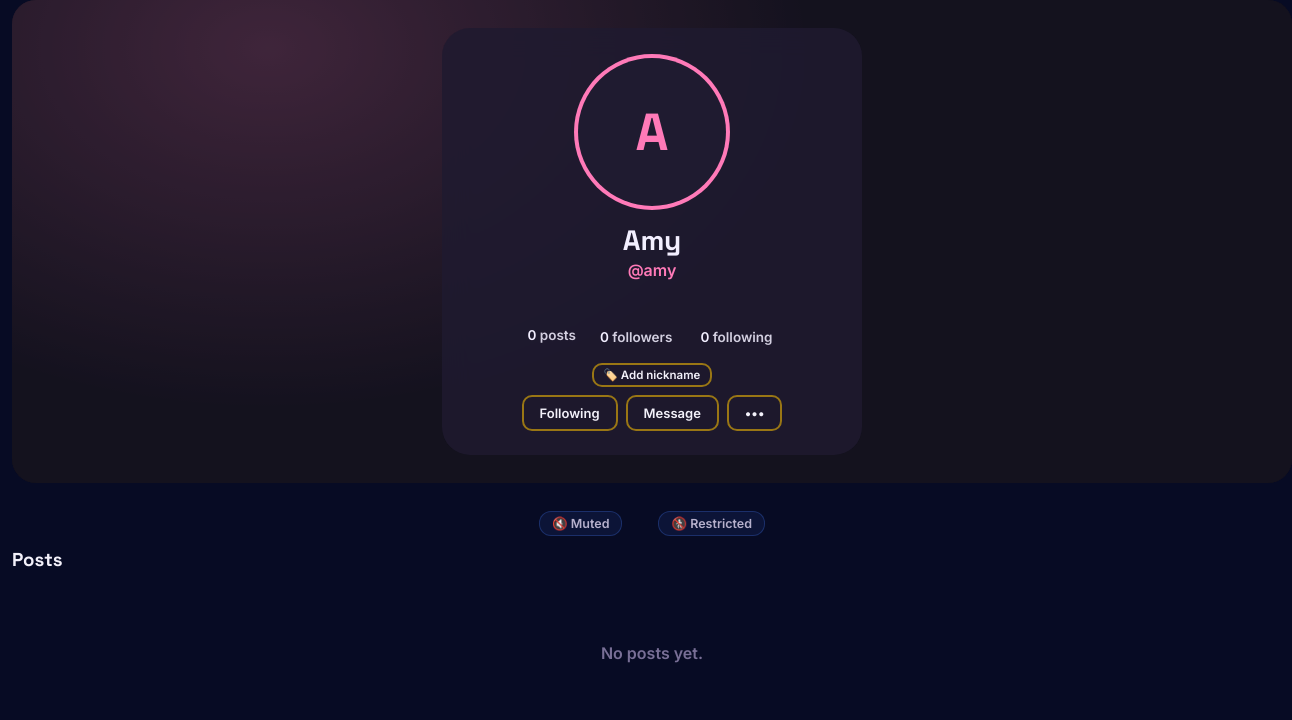
Test: profile: mute / restrict / block › menu reflects what is already saved on the server
Click the button named "More options" at (755, 413), box [727, 395, 782, 431]
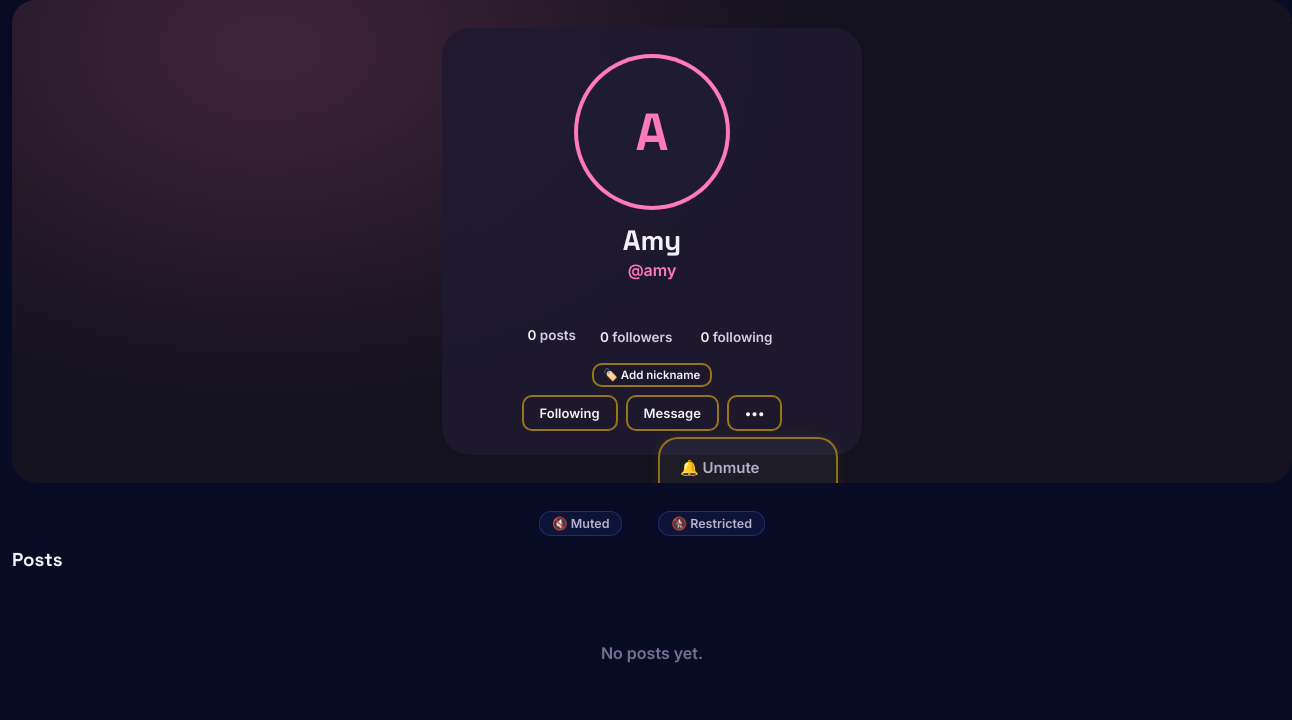
Expected: the text "🔇 Muted" is shown, [539, 511, 622, 536]
Result: the menu item "🔔 Unmute" is shown at [668, 447, 828, 483]
